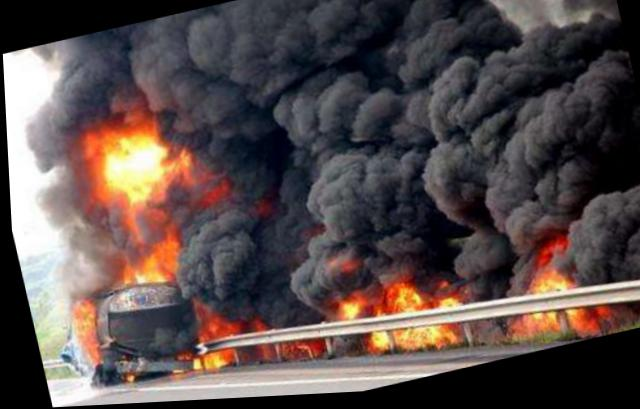fire: (20, 37, 617, 406)
